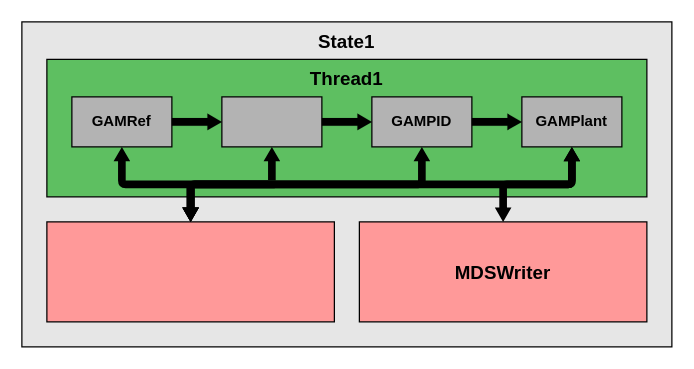
This 694x369 diagram has some shape labels left out. Each missing label, with the centre of its shape:
"GAMDataSource" belongs at (190,271).
"GAMSum" belongs at (271,121).
